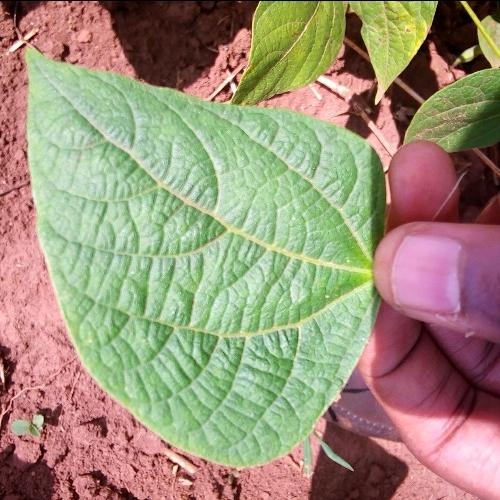mozaik: (140, 147, 328, 396)
